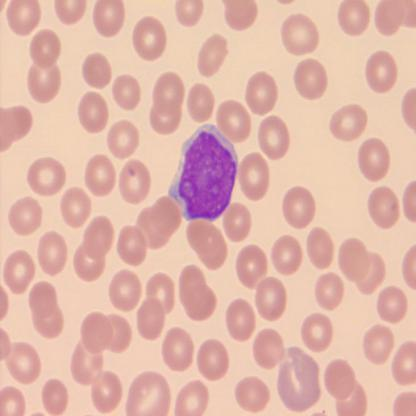Blast: (166, 122, 241, 222)
